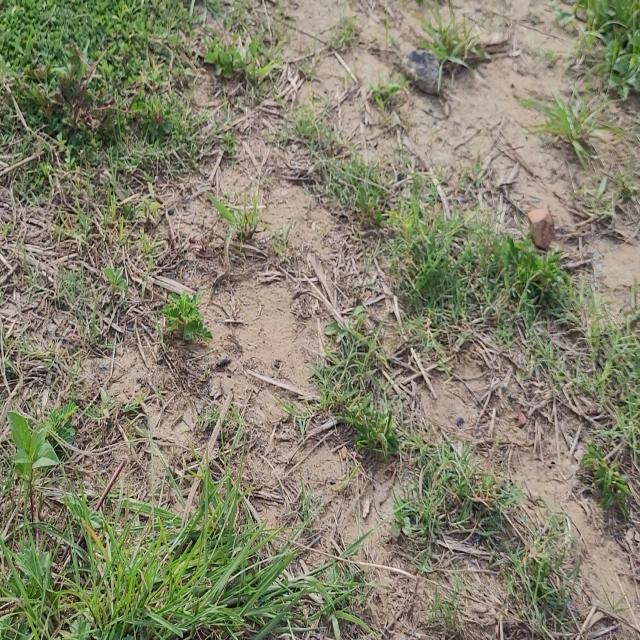grass: (0, 410, 362, 639), (385, 195, 571, 327), (393, 431, 518, 544), (575, 0, 640, 98)
red-sand: (0, 0, 589, 629)
